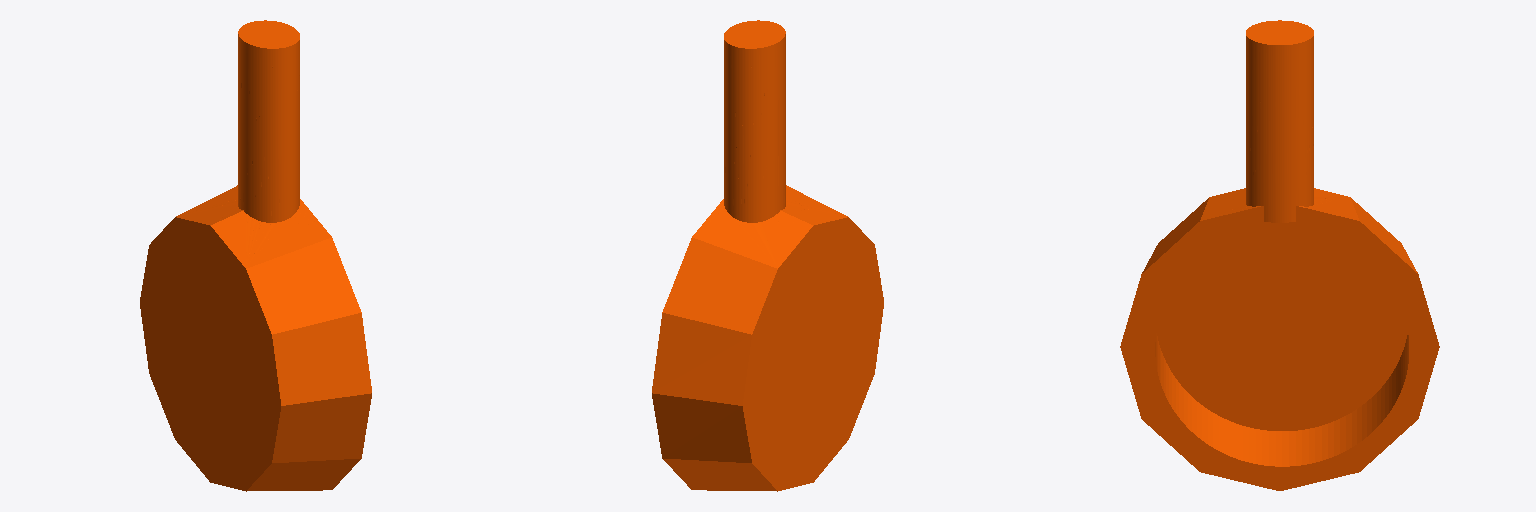
The robot description file, URDF, robot "2024-09-16_pan":
<?xml version="1.0" ?>
<robot name="2024-09-16_pan">
   <material name="obj_color">
      <color rgba="1.0 0.423529411765 0.0392156862745 1.0"/>
   </material>
   <link name="top">
      <inertial>
         <origin rpy="-0.0008722528283916702 -0.0006566852131845247 -0.0002781069488026502" xyz="0.01800757286365747 0.0583992040542466 0.08227403794462523"/>
         <mass value="-0.2680503908774987"/>
         <inertia ixx="-0.0008695348716704815" ixy="-4.74211212065758e-07" ixz="4.004355821305352e-05" iyy="-0.0006564605996996156" iyz="9.388125997589304e-06" izz="-0.0002810495190087484"/>
      </inertial>
      <visual>
         <origin rpy="0 0 0" xyz="0 0 0"/>
         <geometry>
            <mesh filename="top_watertight_tiny.stl" scale="1 1 1"/>
         </geometry>
         <material name="obj_color"/>
      </visual>
      <collision>
         <origin rpy="0 0 0" xyz="0 0 0"/>
         <geometry>
            <mesh filename="top_watertight_tiny.obj" scale="1 1 1"/>
         </geometry>
      </collision>
   </link>
   <link name="bottom">
      <inertial>
         <origin rpy="1.633333333199431e-08 1.633333333199431e-08 1.633333333362855e-08" xyz="0.3464080000000008 0.3464080000000008 0.3464080000000008"/>
         <mass value="0.0009800000000000017"/>
         <inertia ixx="1.633333333253906e-08" ixy="5.447480642029219e-19" ixz="5.447480642029219e-19" iyy="1.633333333253906e-08" iyz="5.447480642029219e-19" izz="1.633333333253906e-08"/>
      </inertial>
      <visual>
         <origin rpy="0 0 0" xyz="0 0 0"/>
         <geometry>
            <mesh filename="bottom_watertight_tiny.stl" scale="1 1 1"/>
         </geometry>
         <material name="obj_color"/>
      </visual>
   </link>
   <link name="world"/>
   <joint name="world_to_base" type="fixed">
      <origin xyz="0 0 0"/>
      <axis xyz="0 0 0"/>
      <parent link="world"/>
      <child link="bottom"/>
   </joint>
   <joint name="rotation" type="revolute">
      <origin xyz="0 0 0"/>
      <axis xyz="0 0 -1"/>
      <parent link="bottom"/>
      <child link="top"/>
      <dynamics damping="1.0" friction="1.0"/>
      <limit effort="0.1" velocity="0.1" lower="0" upper="0.001"/>
   </joint>
</robot>

--- Facts derived from the render (not from the file) ---
Views: 3 orthographic renders of the robot side by side, from view 1: azimuth 30°, elevation 25°; view 2: azimuth 150°, elevation 25°; view 3: azimuth 270°, elevation 25°.
Model 2024-09-16_pan with 3 links and 2 joints (1 revolute, 1 fixed), rooted at world, posed all joints at 0.
Links seen in each view (by area): view 1: top; view 2: top; view 3: top.
Link boxes in pixels (x1,y1,x2,y2): top: (140,20,371,491); top: (652,20,883,491); top: (1120,20,1439,490).
Size in the robot's own frame: 0.0363 by 0.1198 by 0.1851 metres.
1 mesh visuals loaded from 2 distinct referenced files (1 binary STL); not drawn: 1 (reference not matched to a file when rendering).
